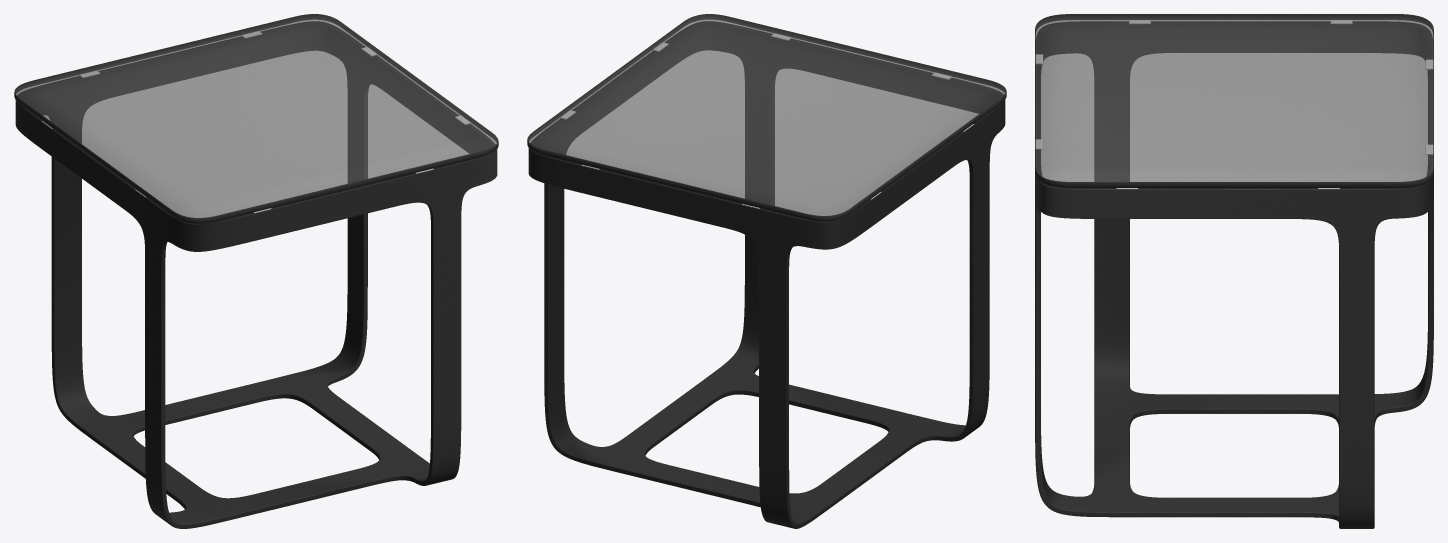
Rendered from coffeTableMirr.glb.
The picture shows the model from 3 angles, left to right: view 1: azimuth 30°, elevation 25°; view 2: azimuth 150°, elevation 25°; view 3: azimuth 270°, elevation 25°; orthographic projection. The views are drawn at different scales.
Visible parts, largest first — view 1: STEEL_BLACK, TOP_GLASS, TOP_EDGE; view 2: STEEL_BLACK, TOP_GLASS, TOP_EDGE; view 3: STEEL_BLACK, TOP_GLASS, TOP_EDGE, PLASTIC.
Part boxes in pixels (<box>): STEEL_BLACK: <box>15,21,497,528</box>; TOP_GLASS: <box>15,14,497,217</box>; TOP_EDGE: <box>14,14,498,223</box>; STEEL_BLACK: <box>528,21,1005,528</box>; TOP_GLASS: <box>528,14,1005,215</box>; TOP_EDGE: <box>527,14,1006,221</box>; STEEL_BLACK: <box>1035,21,1433,528</box>; TOP_GLASS: <box>1035,14,1433,181</box>; TOP_EDGE: <box>1035,14,1433,187</box>; PLASTIC: <box>1035,20,1433,189</box>.
Size of what is drawn, in the model's own units: 50 by 49.86 by 50.
4 materials, 2 textured.
